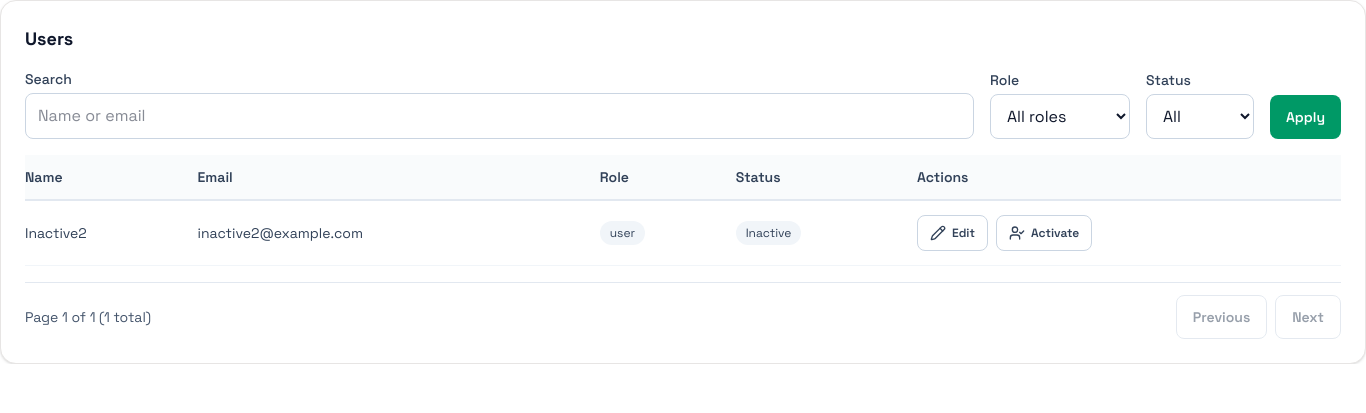
Test: UsersPage › activate failure shows error message
The image size is (1366, 413).
Step 1. Click the button with aria-label "Activate Inactive2" → (1044, 233), box [996,215,1092,251]
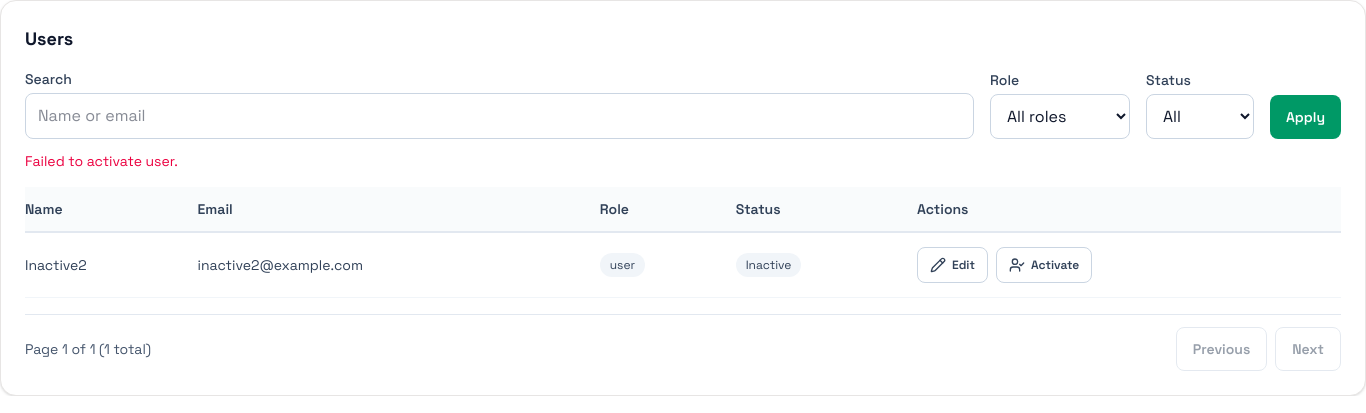
Expected: the text "Failed to activate user." is shown, [25,152,178,170]
